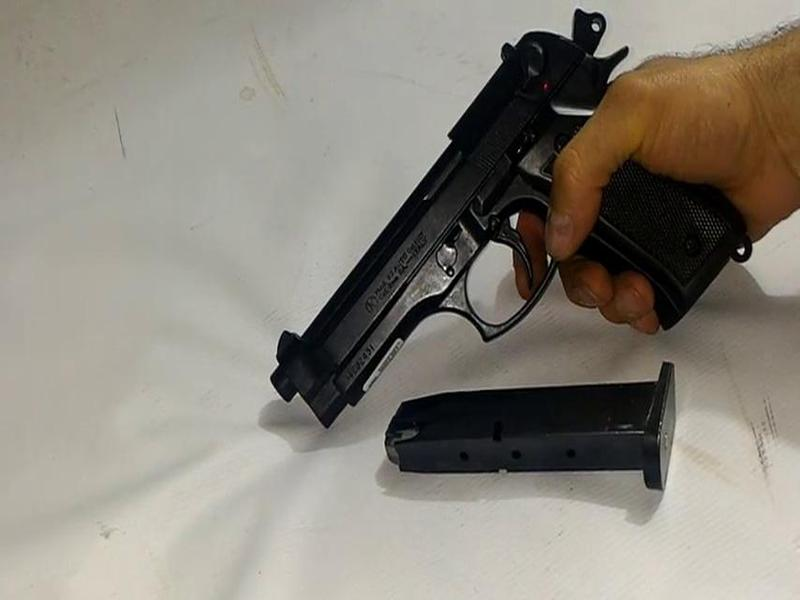Pistola: (227, 1, 760, 422)
